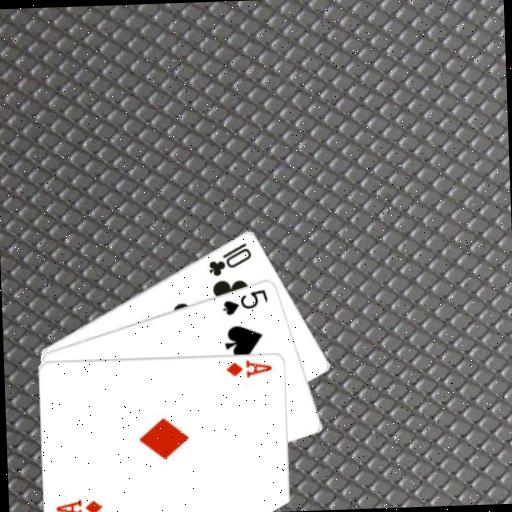10C: (204, 238, 254, 277)
5S: (219, 285, 270, 317)
AD: (223, 355, 274, 379), (52, 494, 103, 512)
